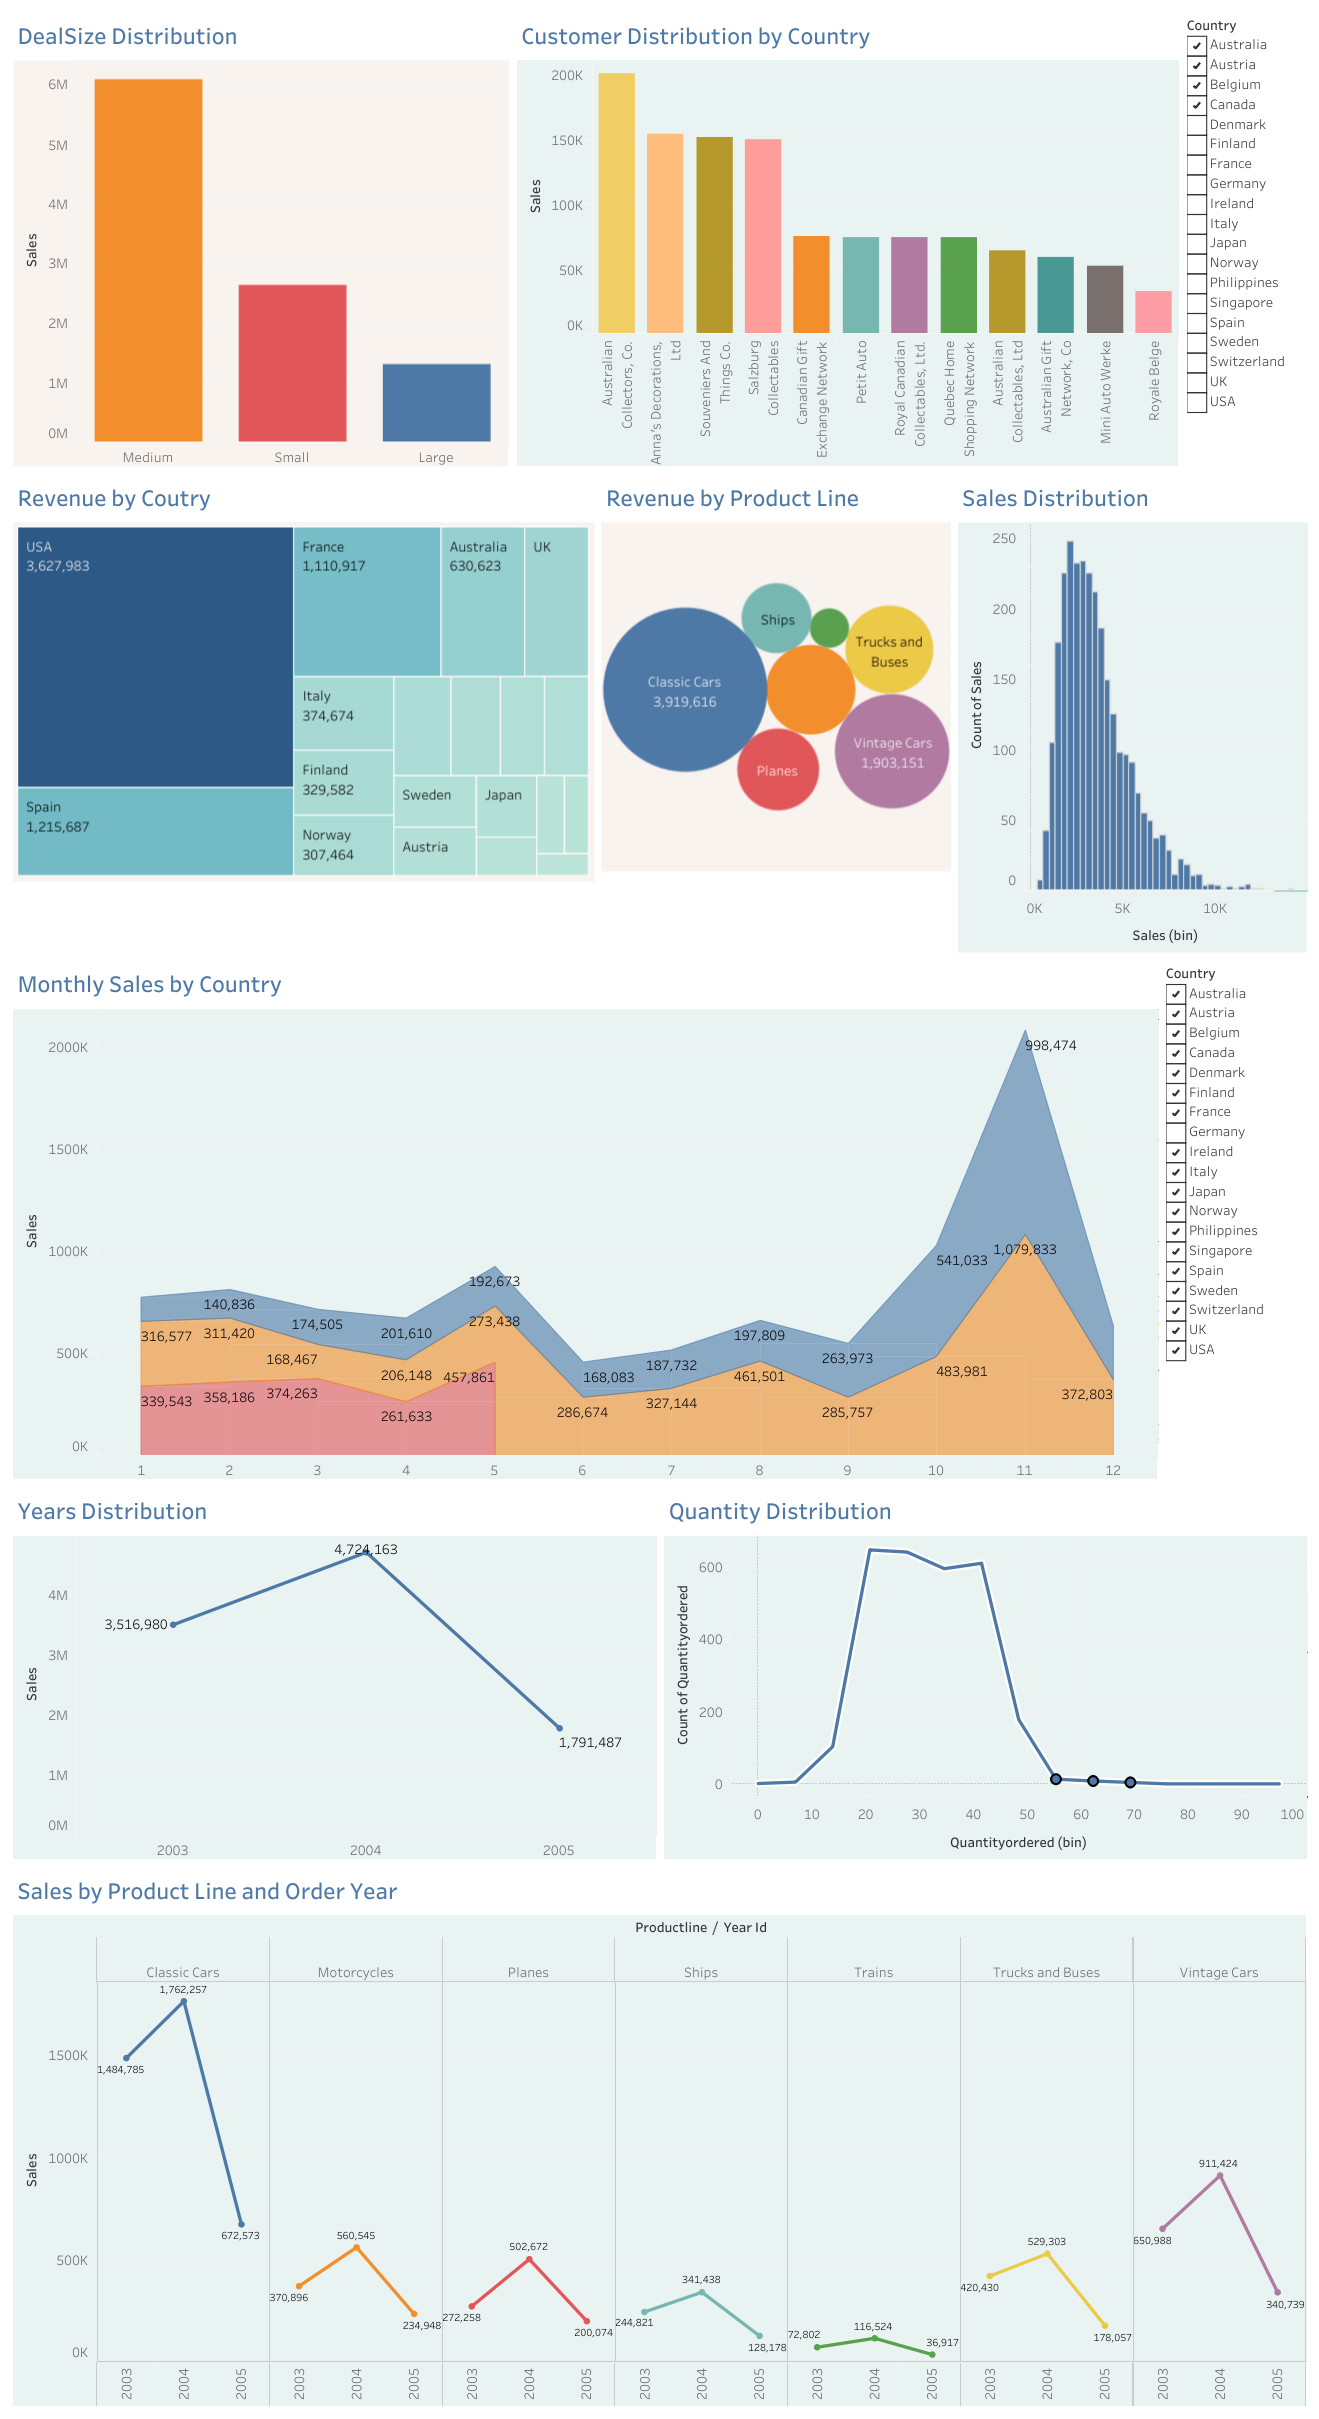

The dashboard page shown, as its layout file describes it:
{"tool":"tableau","page":{"name":"Sales Dashboard","canvas":[1200,2200],"ordinal":0},"visuals":[{"type":"worksheet","title":"DealSize Distribution","mark":"Bar","rows":["SALES"],"cols":["DEALSIZE"],"box":[8,8,457.9,419.5]},{"type":"worksheet","title":"Customer Distribution by Country","mark":"Automatic","rows":["SALES"],"cols":["CUSTOMERNAME"],"box":[465.9,8,609.3,419.5]},{"type":"filter","title":"Customer Distribution by Country","param":"[federated.1q70zzk1ddj9vn1a8dadg1s5bojb].[none:COUNTRY:nk]","box":[1075.2,8,116.8,419.5]},{"type":"worksheet","title":"Revenue by Coutry ","mark":"Automatic","box":[8,427.5,535,442.5]},{"type":"worksheet","title":"Revenue by Product Line","mark":"Circle","box":[543,427.5,324,442.5]},{"type":"worksheet","title":"Sales Distribution","mark":"Automatic","rows":["SALES"],"cols":["Sales (bin)"],"box":[867,427.5,325,442.5]},{"type":"worksheet","title":"Monthly Sales by Country","mark":"Area","rows":["SALES"],"cols":["MONTH_ID"],"box":[8,870,1048,479]},{"type":"filter","title":"Monthly Sales by Country","param":"[federated.1q70zzk1ddj9vn1a8dadg1s5bojb].[none:COUNTRY:nk]","box":[1056,870,136,479]},{"type":"worksheet","title":"Years Distribution","mark":"Line","rows":["SALES"],"cols":["YEAR_ID"],"box":[8,1349,592,345]},{"type":"worksheet","title":"Quantity Distribution","mark":"Line","rows":["QUANTITYORDERED"],"cols":["Quantityordered (bin)"],"box":[600,1349,592,345]},{"type":"worksheet","title":"Sales by Product Line and Order Year","mark":"Line","rows":["SALES"],"cols":["PRODUCTLINE","YEAR_ID"],"box":[8,1694,1184,498]}]}

Visuals, with their boxes in screenshot pixels (x1, y1, x2, y2), scaled from the page's 1200x2200 canvas onto the 1319x2419 screenshot:
"DealSize Distribution" worksheet (Bar marks): detection(9, 9, 512, 470)
"Customer Distribution by Country" worksheet: detection(512, 9, 1182, 470)
"Customer Distribution by Country" filter: detection(1182, 9, 1310, 470)
"Revenue by Coutry " worksheet: detection(9, 470, 597, 957)
"Revenue by Product Line" worksheet (Circle marks): detection(597, 470, 953, 957)
"Sales Distribution" worksheet: detection(953, 470, 1310, 957)
"Monthly Sales by Country" worksheet (Area marks): detection(9, 957, 1161, 1483)
"Monthly Sales by Country" filter: detection(1161, 957, 1310, 1483)
"Years Distribution" worksheet (Line marks): detection(9, 1483, 660, 1863)
"Quantity Distribution" worksheet (Line marks): detection(660, 1483, 1310, 1863)
"Sales by Product Line and Order Year" worksheet (Line marks): detection(9, 1863, 1310, 2410)
